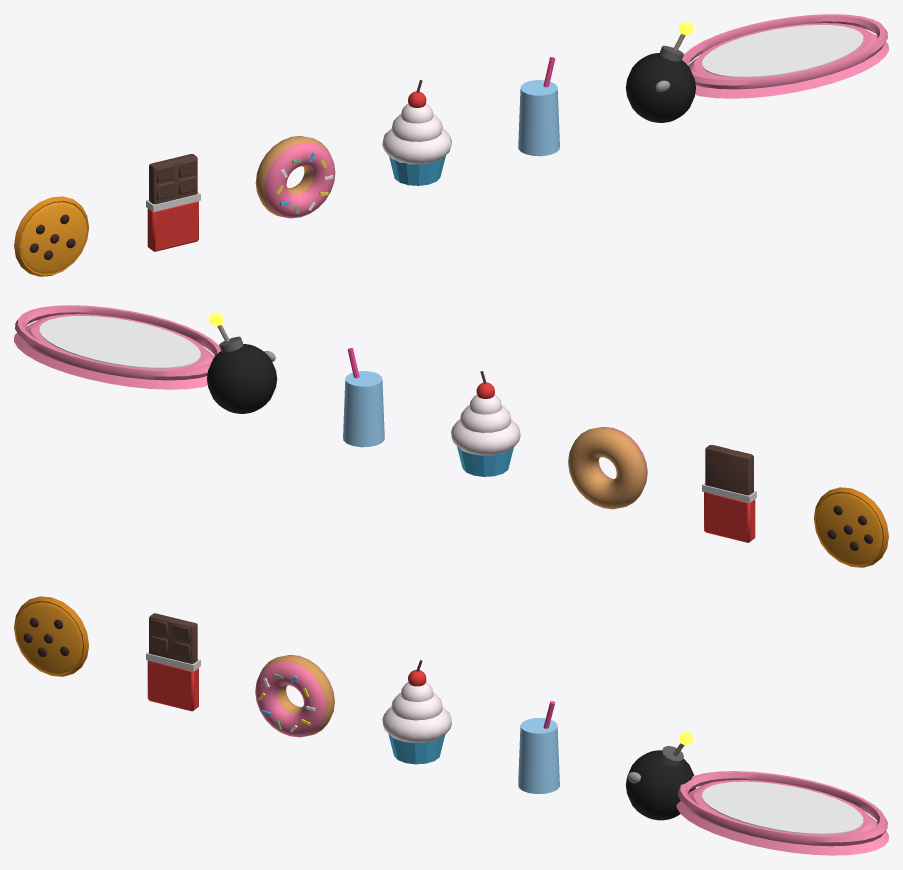
File: dina_treats.glb
The picture shows the model from 3 angles, top to bottom: view 1: azimuth 30°, elevation 25°; view 2: azimuth 150°, elevation 25°; view 3: azimuth 330°, elevation 25°; orthographic projection.
Visible parts, largest first — view 1: Plate_mesh, Donut_mesh, Cookie_mesh, Choc_mesh, Cupcake_mesh, Bomb_mesh, Milk_mesh; view 2: Plate_mesh, Donut_mesh, Cookie_mesh, Choc_mesh, Cupcake_mesh, Bomb_mesh, Milk_mesh; view 3: Plate_mesh, Donut_mesh, Cookie_mesh, Choc_mesh, Cupcake_mesh, Bomb_mesh, Milk_mesh.
Part boxes in pixels (x1=…): Plate_mesh: x1=682, y1=14, x2=888, y2=98; Donut_mesh: x1=255, y1=136, x2=335, y2=218; Cookie_mesh: x1=14, y1=196, x2=88, y2=276; Choc_mesh: x1=146, y1=154, x2=200, y2=251; Cupcake_mesh: x1=382, y1=80, x2=451, y2=185; Bomb_mesh: x1=625, y1=21, x2=695, y2=122; Milk_mesh: x1=518, y1=57, x2=559, y2=156; Plate_mesh: x1=14, y1=305, x2=220, y2=389; Donut_mesh: x1=568, y1=427, x2=647, y2=509; Cookie_mesh: x1=814, y1=487, x2=888, y2=567; Choc_mesh: x1=702, y1=445, x2=756, y2=542; Cupcake_mesh: x1=451, y1=371, x2=520, y2=476; Bomb_mesh: x1=207, y1=312, x2=277, y2=413; Milk_mesh: x1=343, y1=348, x2=384, y2=447; Plate_mesh: x1=676, y1=771, x2=888, y2=855; Donut_mesh: x1=255, y1=655, x2=334, y2=737; Cookie_mesh: x1=14, y1=596, x2=88, y2=676; Choc_mesh: x1=146, y1=613, x2=200, y2=711; Cupcake_mesh: x1=382, y1=660, x2=451, y2=764; Bomb_mesh: x1=625, y1=731, x2=695, y2=820; Milk_mesh: x1=518, y1=701, x2=559, y2=793.
Size of the model in its own units: 4.28 by 0.4969 by 0.55.
